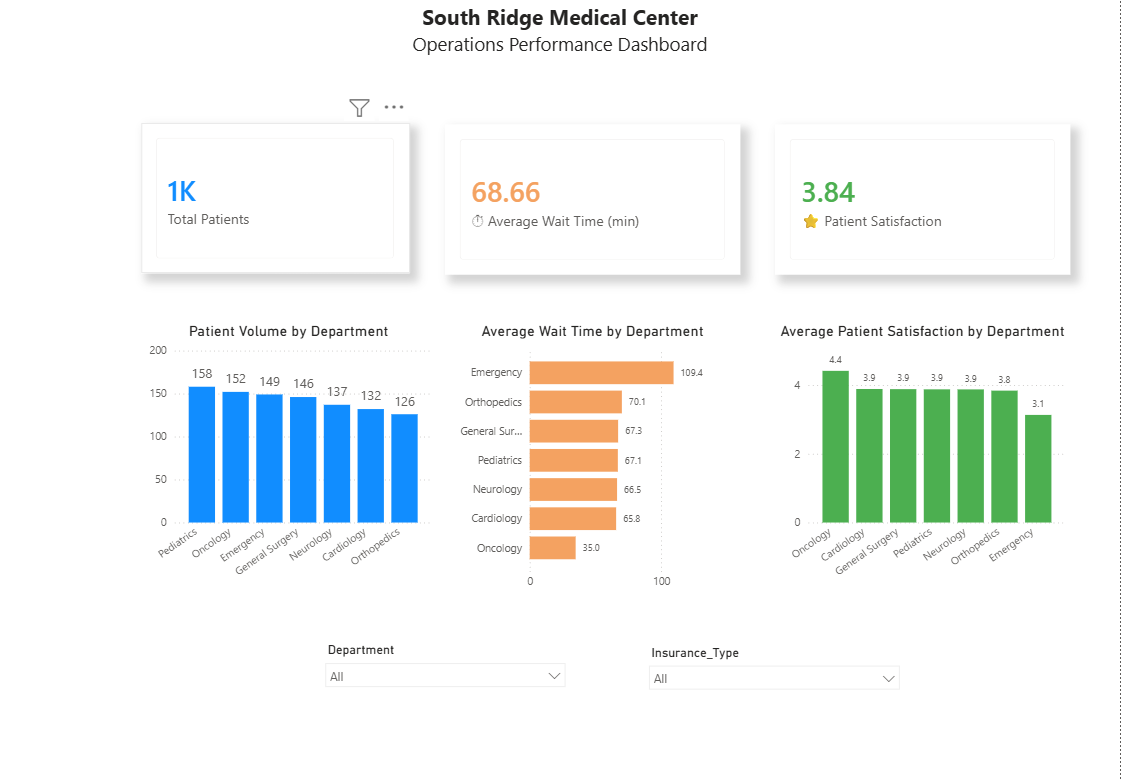

What the dashboard file says about the page in this screenshot:
{"tool":"powerbi","page":{"name":"Hospital Operations Dashboard","canvas":[1280,900],"ordinal":0},"visuals":[{"type":"cardVisual","fields":{"Data":["Hospital_Operations.Total Patients"]},"box":[161.3,142.7,306.7,172],"z":0},{"type":"cardVisual","fields":{"Data":["Hospital_Operations.Average Wait Time"]},"box":[508,144,337.3,172],"z":1000},{"type":"cardVisual","fields":{"Data":["Hospital_Operations.Average Patient Satisfaction"]},"box":[885.3,144,337.3,172],"z":2000},{"type":"clusteredBarChart","fields":{"Category":["Hospital_Operations.Department"],"Y":["Hospital_Operations.Average Wait Time"]},"box":[508,370.7,337.3,314.7],"z":3000},{"type":"clusteredColumnChart","fields":{"Category":["Hospital_Operations.Department"],"Y":["Hospital_Operations.Average Patient Satisfaction"]},"box":[885.3,370.7,337.3,314.7],"z":4000},{"type":"clusteredColumnChart","title":"Patient Volume by Department","fields":{"Category":["Hospital_Operations.Department"],"Y":["Hospital_Operations.Total Patients"]},"box":[161.3,370.7,337.3,314.7],"z":5000},{"type":"textbox","box":[237.3,0,817.3,82.7],"z":6000},{"type":"slicer","fields":{"Values":["Hospital_Operations.Department"]},"box":[361.3,732,294.7,89.3],"z":7000},{"type":"slicer","fields":{"Values":["Hospital_Operations.Insurance_Type"]},"box":[732,734.7,306.7,86.7],"z":8000},{"type":"textbox","box":[0,0,1280,82.9],"z":9000}]}

Visuals, with their boxes in screenshot pixels (x1, y1, x2, y2), scaled from the page's 1280x900 canvas onto the 1121x780 screenshot:
cardVisual - Hospital_Operations.Total Patients: box(141, 124, 410, 273)
cardVisual - Hospital_Operations.Average Wait Time: box(445, 125, 740, 274)
cardVisual - Hospital_Operations.Average Patient Satisfaction: box(775, 125, 1071, 274)
clusteredBarChart - Hospital_Operations.Department x Hospital_Operations.Average Wait Time: box(445, 321, 740, 594)
clusteredColumnChart - Hospital_Operations.Department x Hospital_Operations.Average Patient Satisfaction: box(775, 321, 1071, 594)
"Patient Volume by Department" clusteredColumnChart: box(141, 321, 437, 594)
textbox: box(208, 0, 924, 72)
slicer - Hospital_Operations.Department: box(316, 634, 575, 712)
slicer - Hospital_Operations.Insurance_Type: box(641, 637, 910, 712)
textbox: box(0, 0, 1120, 72)
